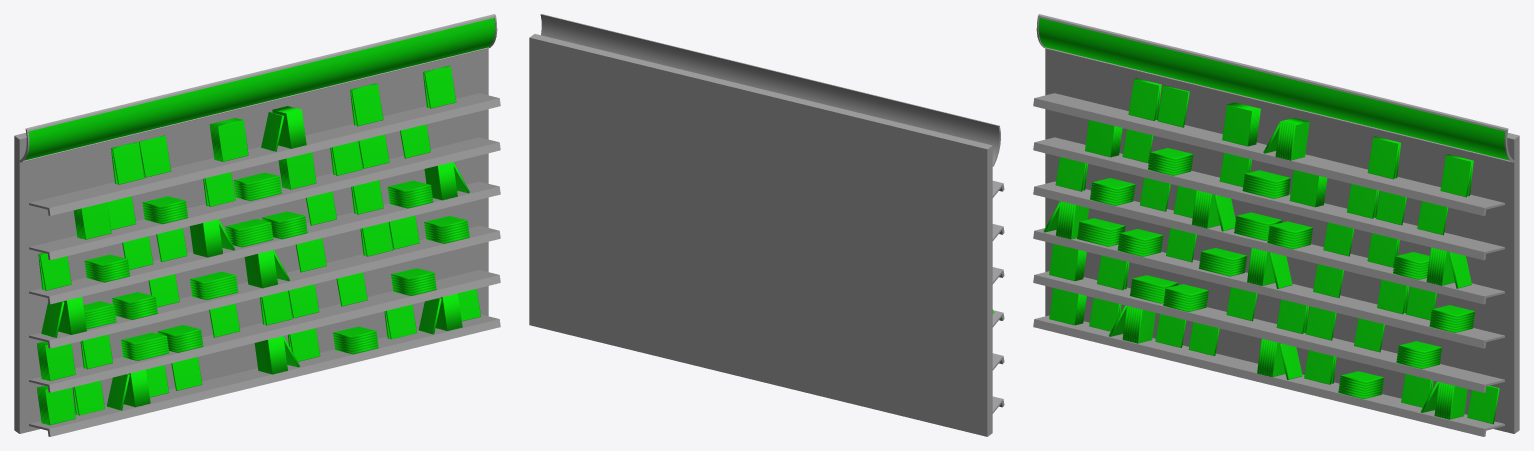
Rendered from CS_SM_GmShlf_G_01.fbx.
3 views of the same model, side by side, from view 1: azimuth 30°, elevation 25°; view 2: azimuth 150°, elevation 25°; view 3: azimuth 330°, elevation 25° (orthographic). The views are drawn at different scales.
Parts seen in each view (by area): view 1: SM_GmShlf_G_01; view 2: SM_GmShlf_G_01; view 3: SM_GmShlf_G_01.
Part boxes in pixels (x1=…): SM_GmShlf_G_01: x1=14, y1=14, x2=500, y2=436; SM_GmShlf_G_01: x1=529, y1=14, x2=1004, y2=436; SM_GmShlf_G_01: x1=1033, y1=14, x2=1519, y2=436.
Bounding box in the file's own units: 500 × 316 × 49.56.
